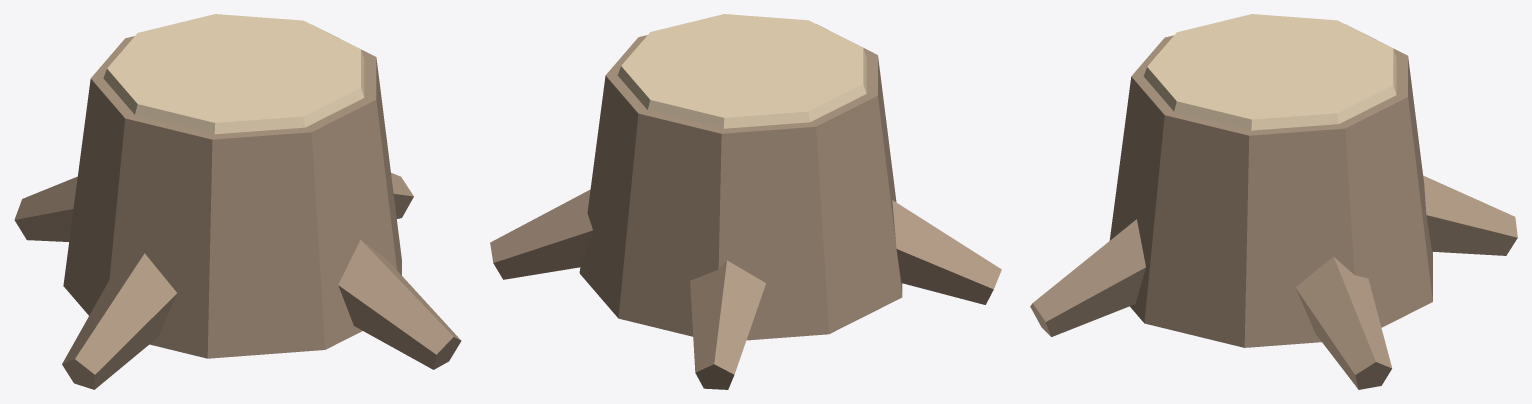
Rendered from stump.glb.
3 renders of one model, left to right at view 1: azimuth 30°, elevation 25°; view 2: azimuth 150°, elevation 25°; view 3: azimuth 270°, elevation 25°, orthographic. The views are drawn at different scales.
Parts seen in each view (by area): view 1: stump; view 2: stump; view 3: stump.
Boxes of the visible parts, x1,y1,x2,y2 form: stump: (14,14,461,389); stump: (490,14,1001,389); stump: (1030,14,1517,389).
Bounding box in the file's own units: 0.9228 × 0.4697 × 0.9228.
